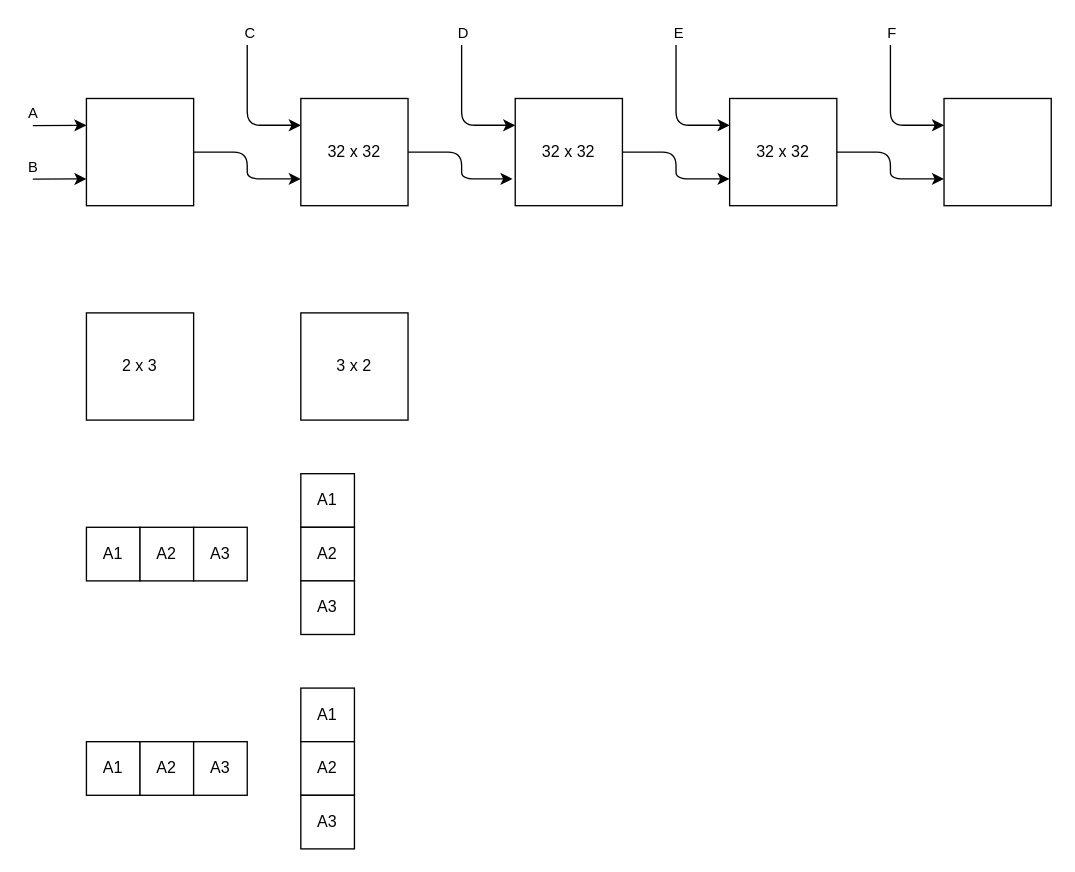
The diagram is 1075 pixels wide and 872 high, and some of its shapes have lost their labels. The box of each missing label's shape, as (x1, y1, x2, y2) in pixels:
2 x 32: (85, 97, 194, 206)
32 x 1: (943, 97, 1051, 206)
